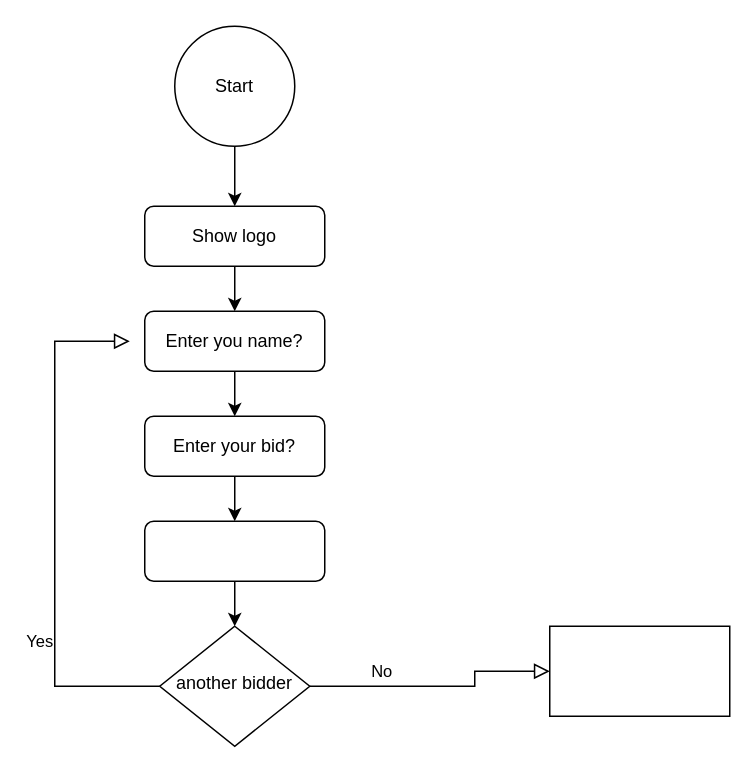
This 756x773 diagram has some shape labels left out. The centre of each missing label's shape, as x and y in pixels:
"add name and bid to dict" belongs at pixel 234 550.
"Show who won the bid" belongs at pixel 639 670.
